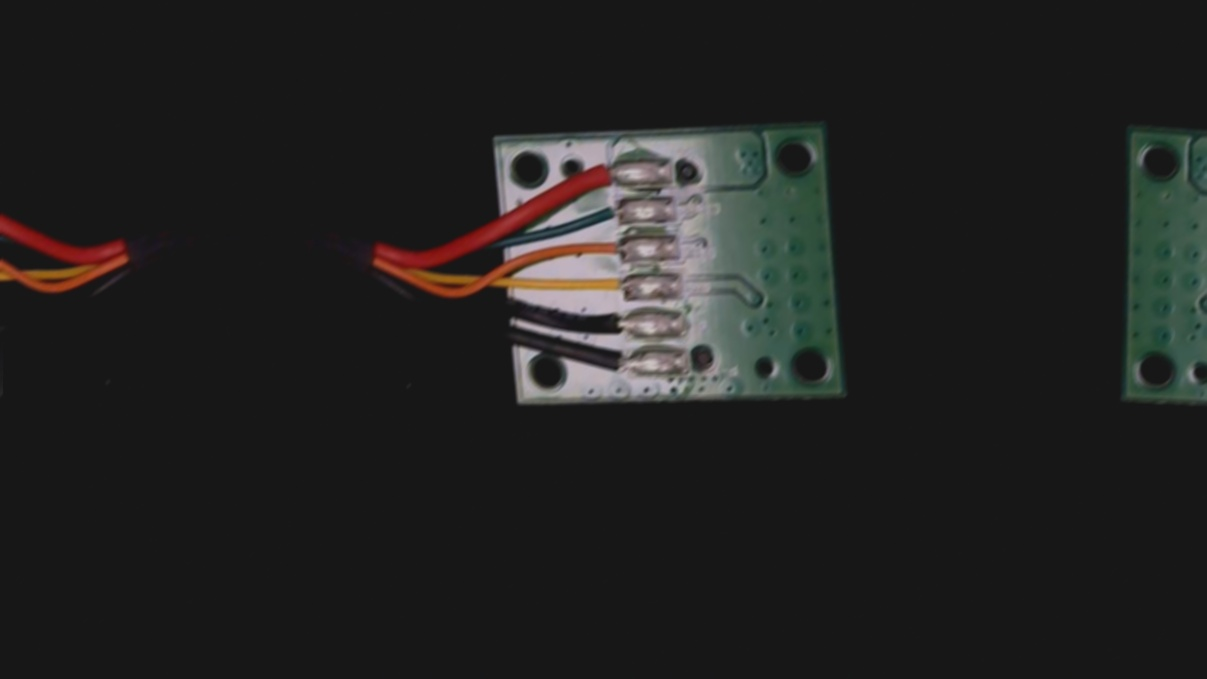Black: (571, 307, 647, 342)
Black1: (583, 349, 653, 382)
Green: (578, 196, 640, 227)
Orange: (567, 235, 639, 265)
Red: (561, 157, 634, 192)
Yellow: (567, 271, 643, 306)
